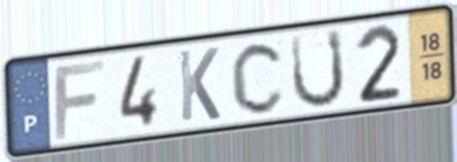2: (353, 21, 404, 105)
4: (117, 52, 162, 132)
C: (229, 38, 288, 117)
F: (52, 57, 108, 144)
K: (176, 44, 223, 124)
U: (288, 26, 348, 112)
